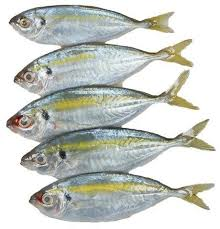Ikan Selar: (15, 168, 220, 224), (15, 41, 203, 95), (3, 84, 194, 137), (15, 129, 217, 176), (9, 3, 191, 44)
